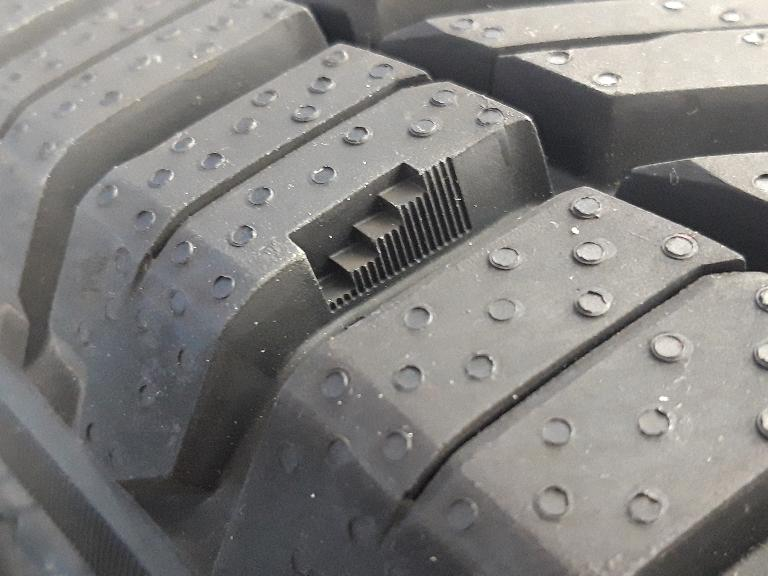temoin:100: (278, 147, 485, 325)
